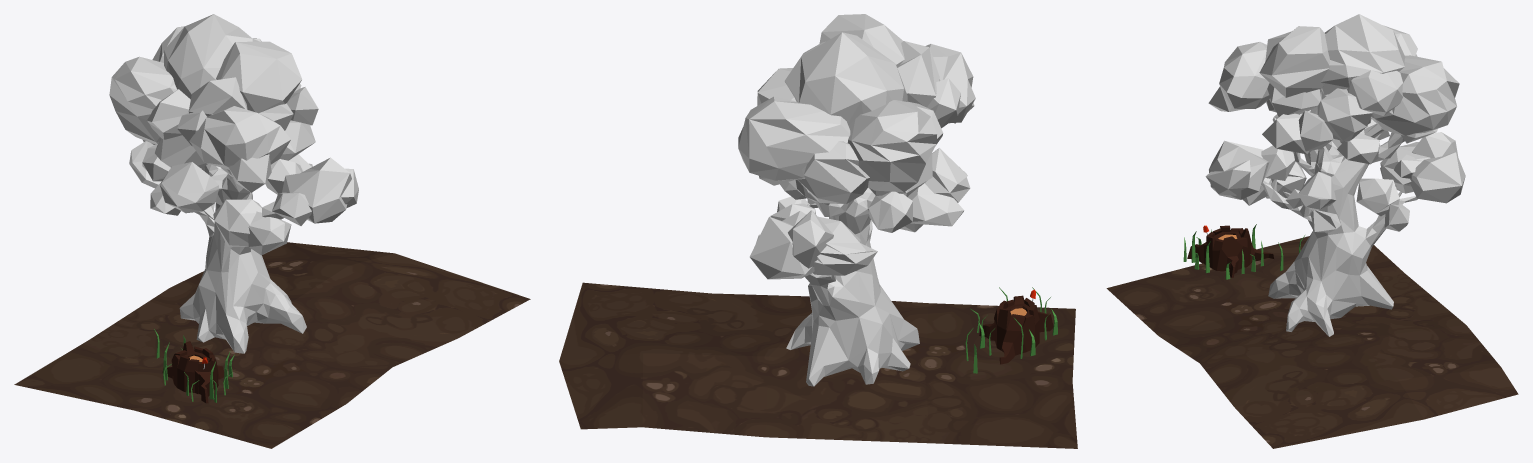
The model's file is GardenSecADec.fbx.
3 views of the same model, side by side, from view 1: azimuth 30°, elevation 25°; view 2: azimuth 150°, elevation 25°; view 3: azimuth 270°, elevation 25° (orthographic). The views are drawn at different scales.
Visible parts, largest first — view 1: Plane.010, fattree.003, stump v:376 f:268.002; view 2: Plane.010, fattree.003, stump v:376 f:268.002; view 3: fattree.003, Plane.010, stump v:376 f:268.002.
Boxes of the visible parts, <box> form: Plane.010: <box>14,242,530,448</box>; fattree.003: <box>109,14,358,353</box>; stump v:376 f:268.002: <box>154,329,234,403</box>; Plane.010: <box>559,282,1077,448</box>; fattree.003: <box>738,14,975,386</box>; stump v:376 f:268.002: <box>965,287,1057,373</box>; fattree.003: <box>1205,14,1465,336</box>; Plane.010: <box>1106,236,1518,448</box>; stump v:376 f:268.002: <box>1183,224,1304,279</box>.
Bounding box in the file's own units: 10.81 × 7.03 × 8.43.
7 materials, 1 textured.
